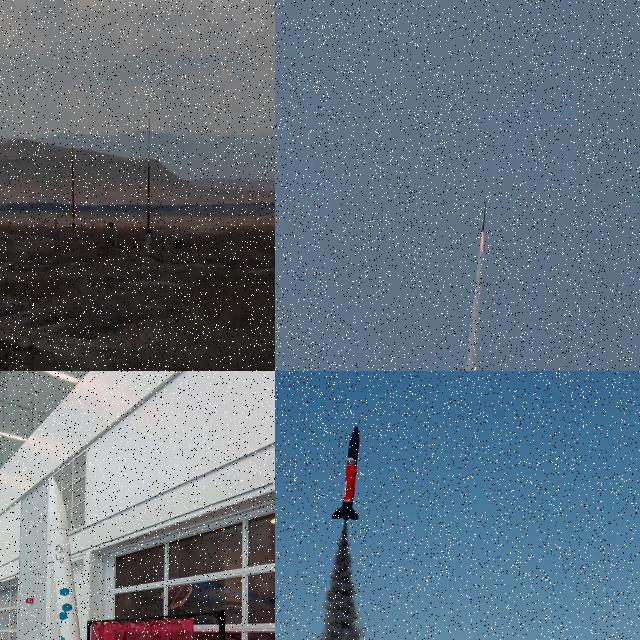Rocket: (48, 476, 81, 640), (330, 424, 364, 520), (71, 152, 76, 219), (481, 196, 487, 234)
